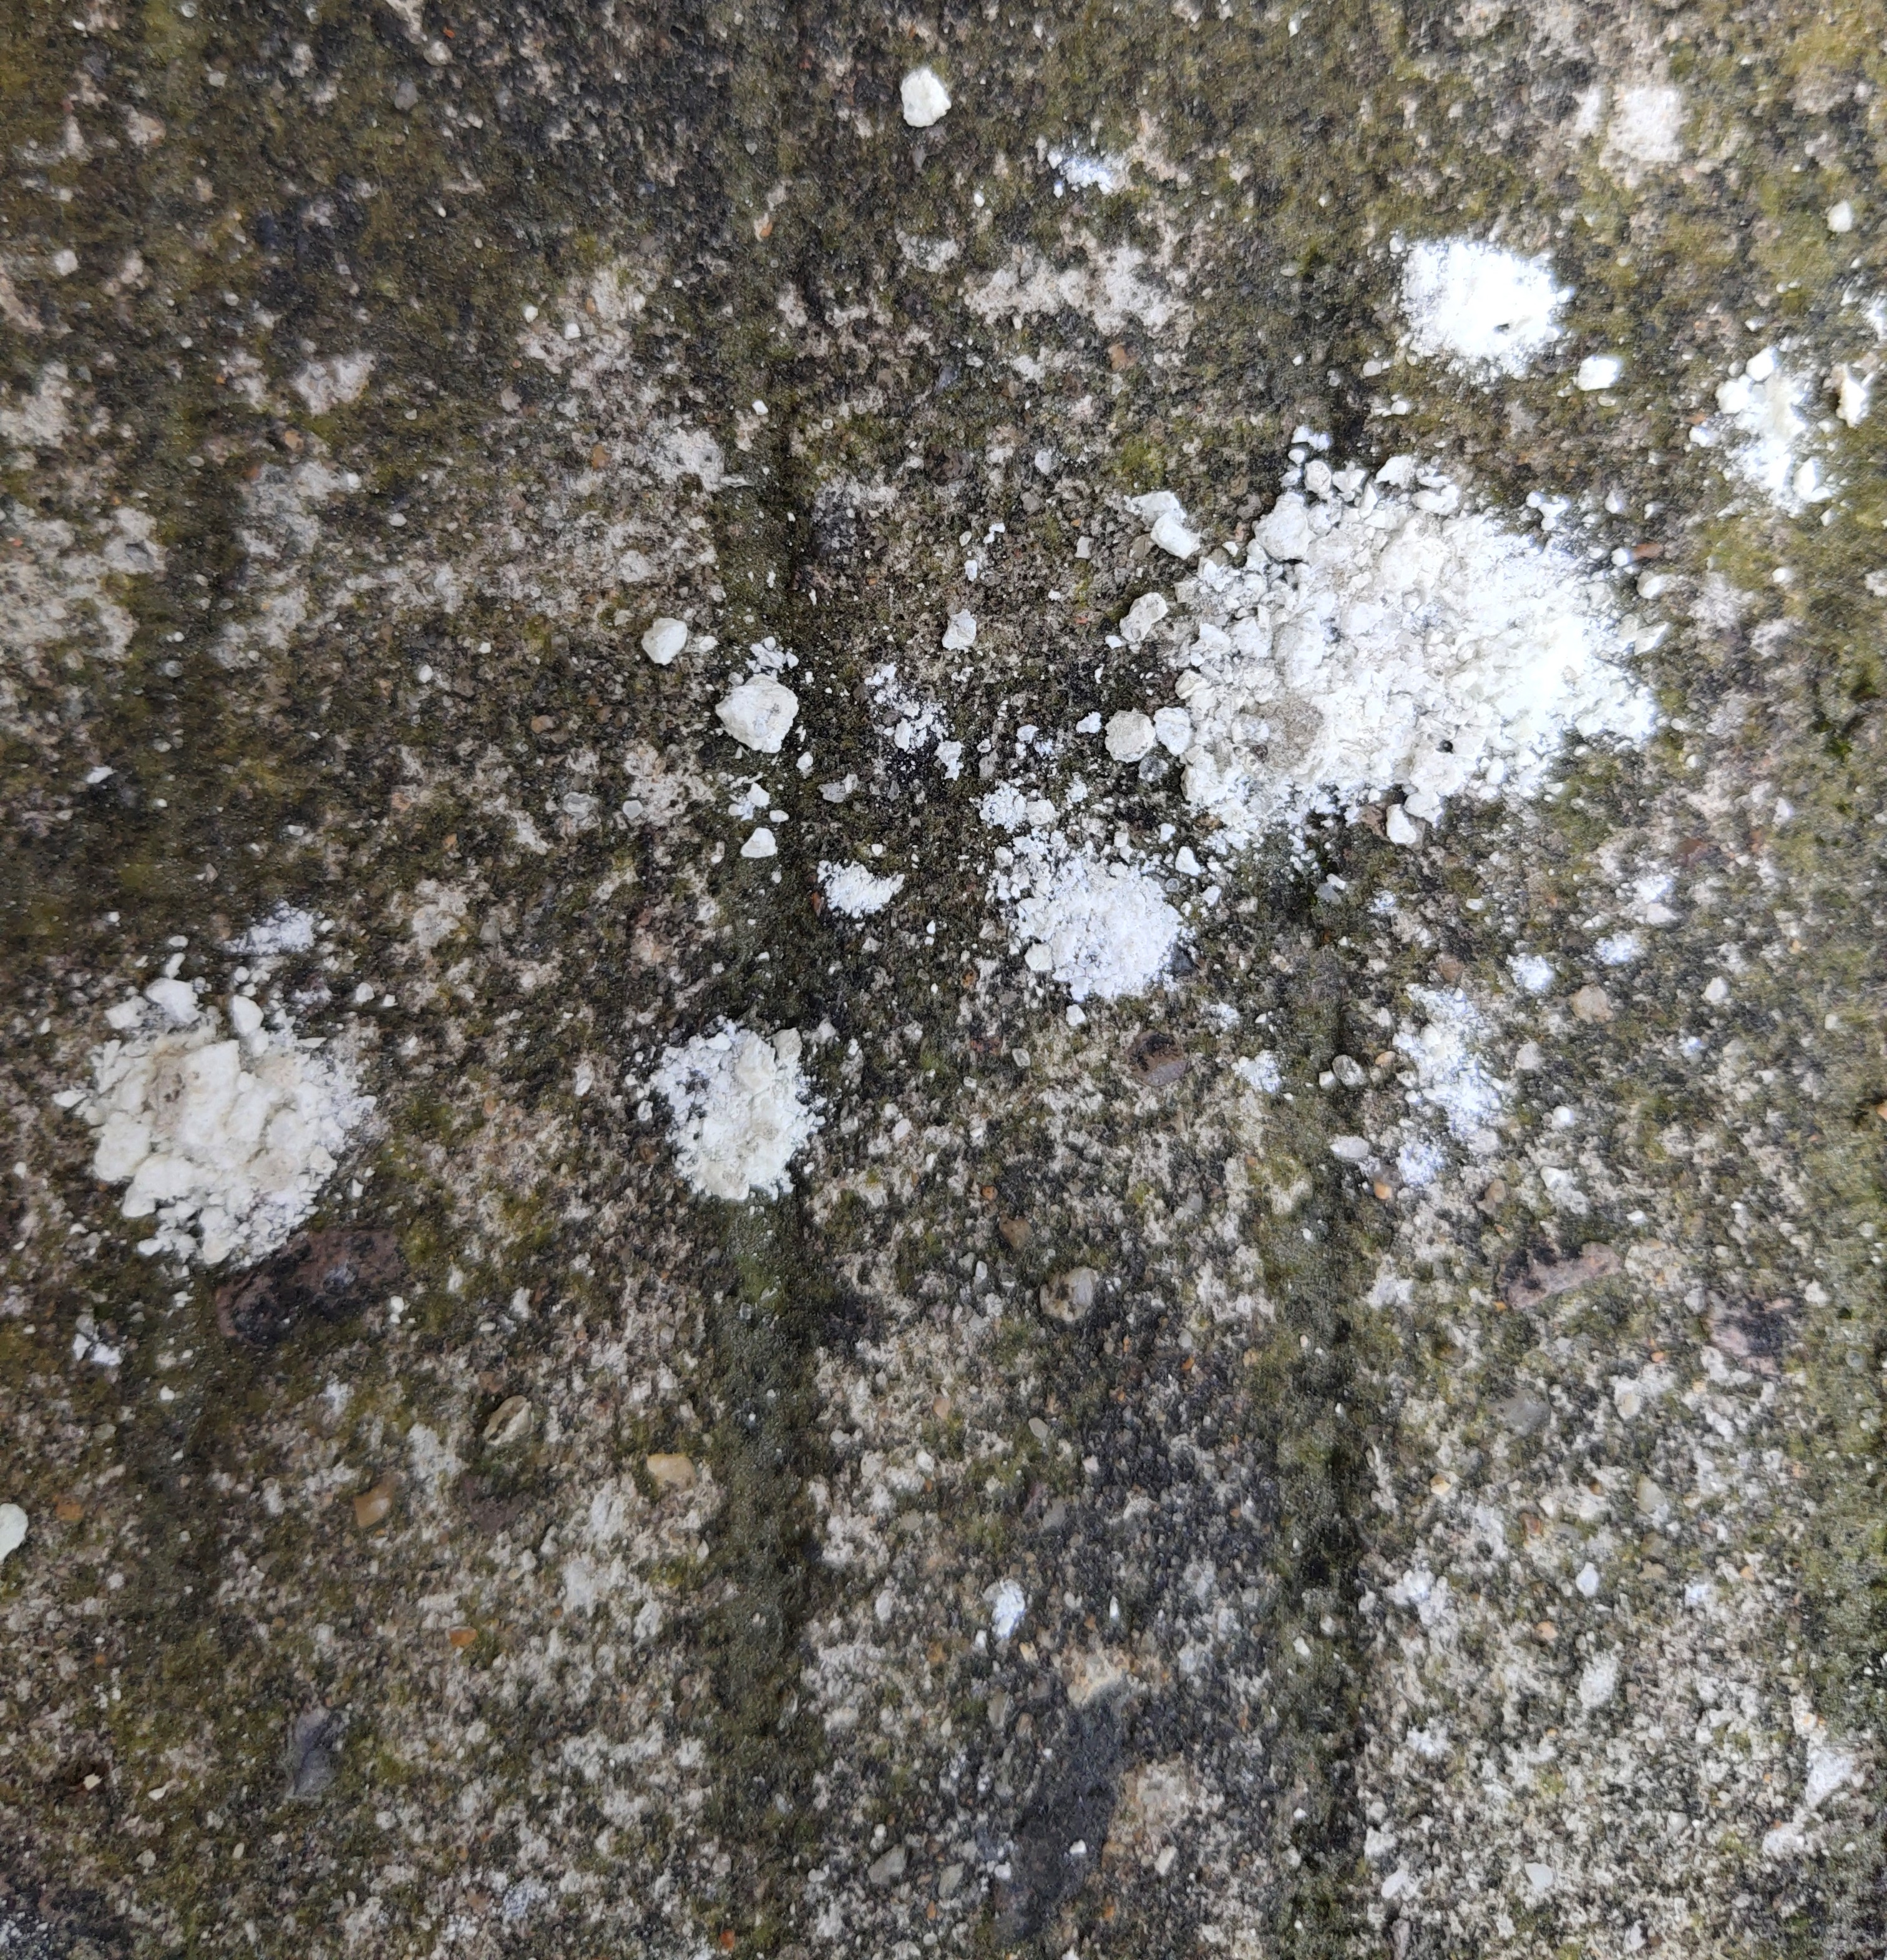ash pile: (1105, 423, 1659, 875), (56, 912, 389, 1269), (980, 774, 1185, 1031), (653, 1001, 824, 1208), (1687, 347, 1869, 516), (1402, 236, 1572, 392)
